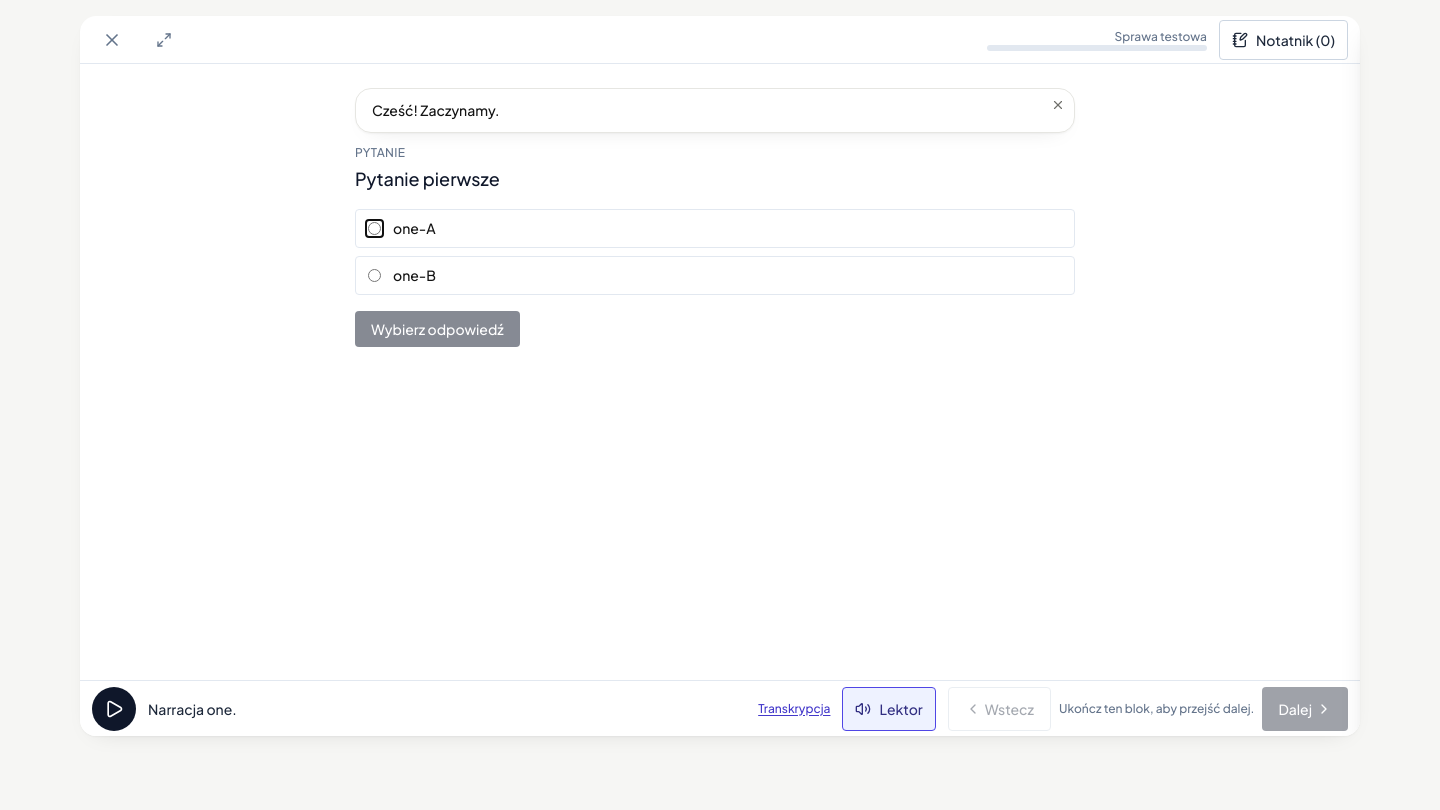
Test case: CoursePlayer: powłoka (postęp, nawigacja, notatnik, lektor) › fokus › błąd zapisu odpowiedzi nie przenosi fokusu na nagłówek
Click the radio button labelled "one-A": (374, 229) [368,222,381,235]
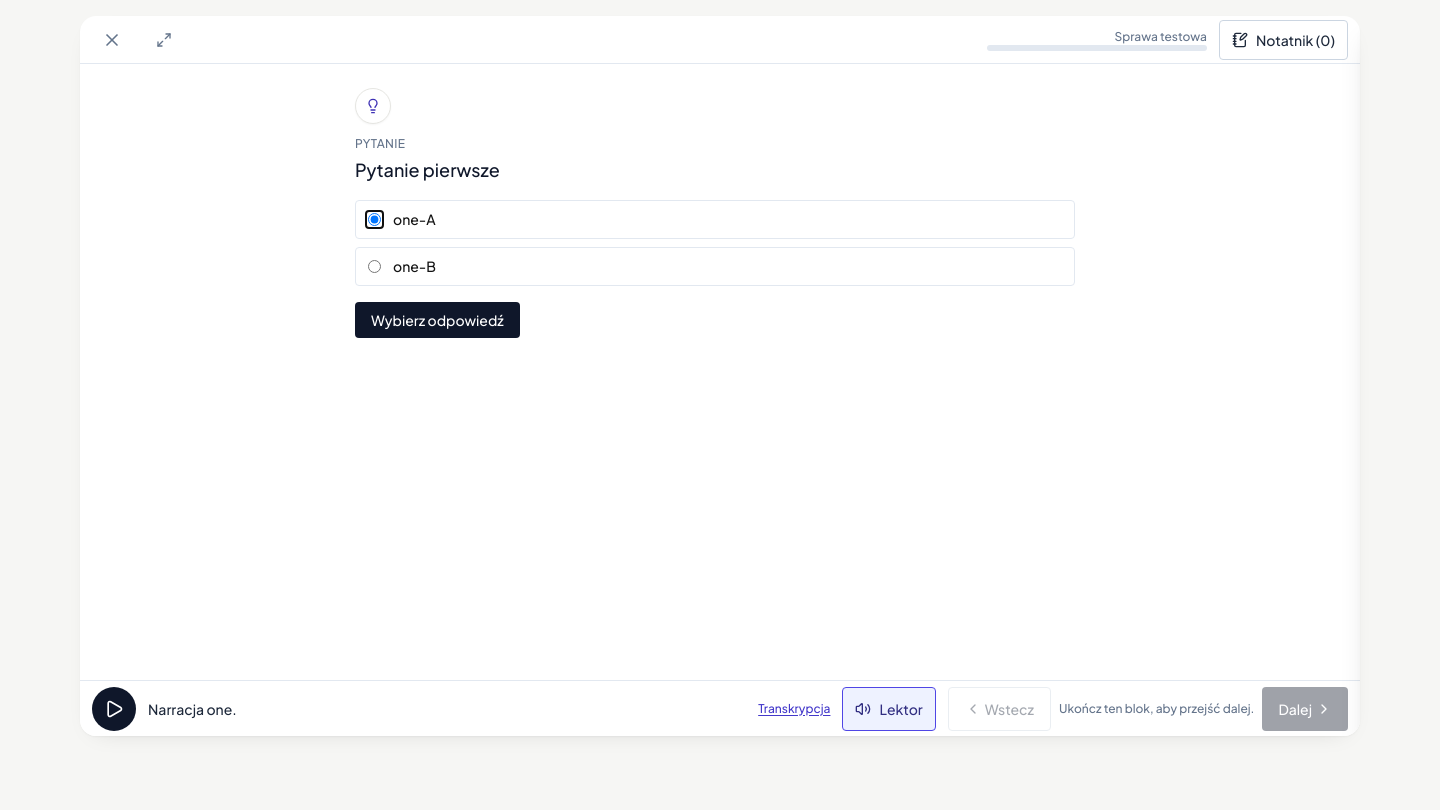
Click the button "Wybierz odpowiedź": (437, 320) [355,302,520,338]
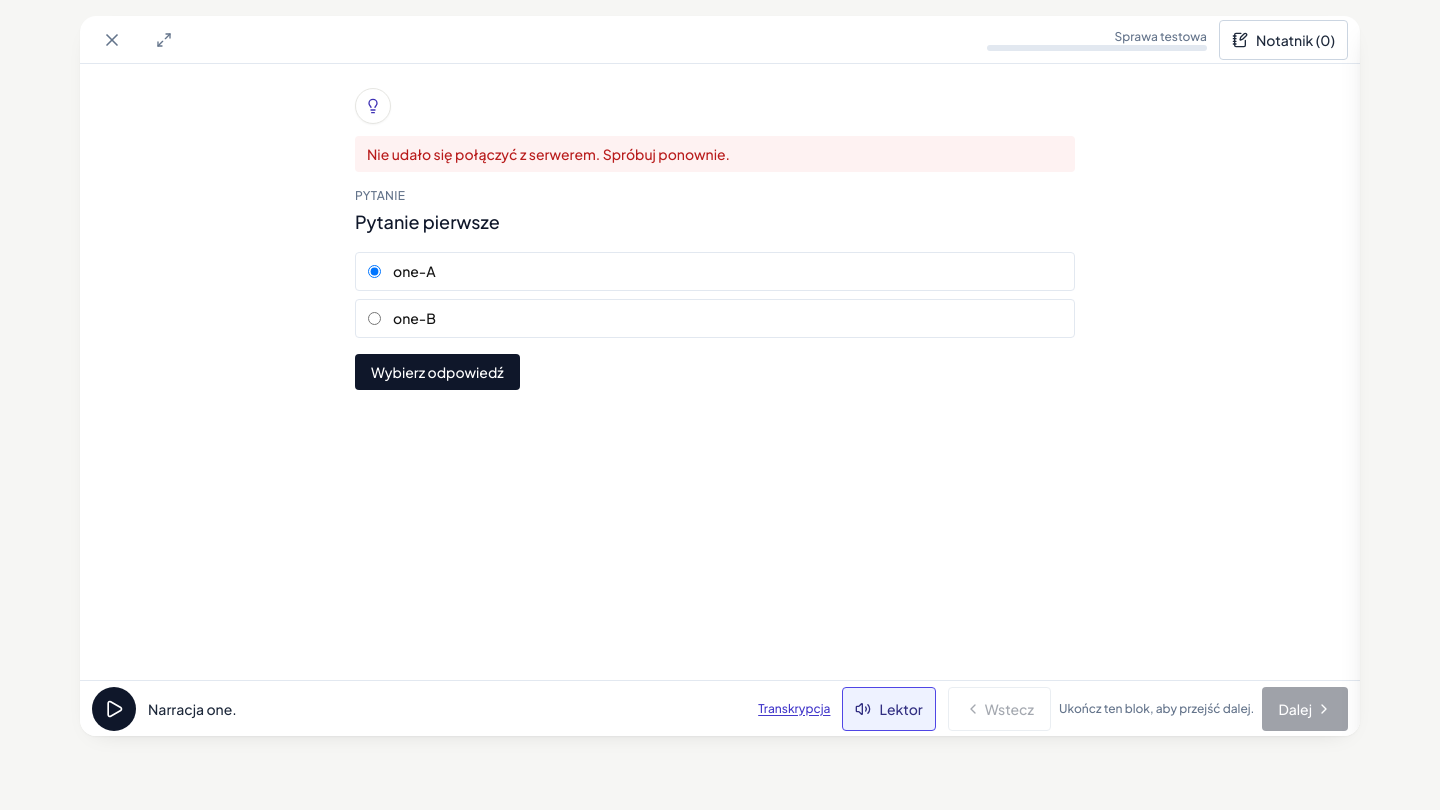
Now the message shows "Nie udało się połączyć", box [367,145,730,163]
